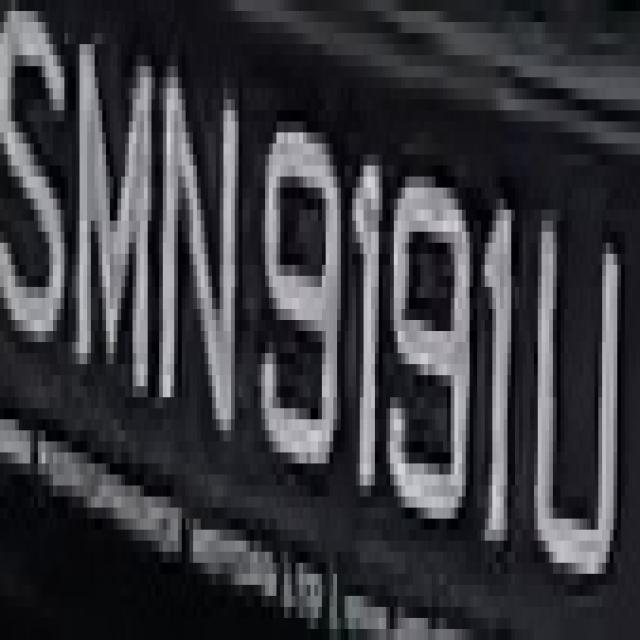1: (477, 121, 523, 574), (344, 77, 382, 519)
9: (250, 88, 337, 497), (390, 121, 473, 541)
M: (64, 22, 156, 430)
N: (155, 55, 246, 464)
S: (4, 11, 68, 386)
U: (530, 143, 625, 607)
